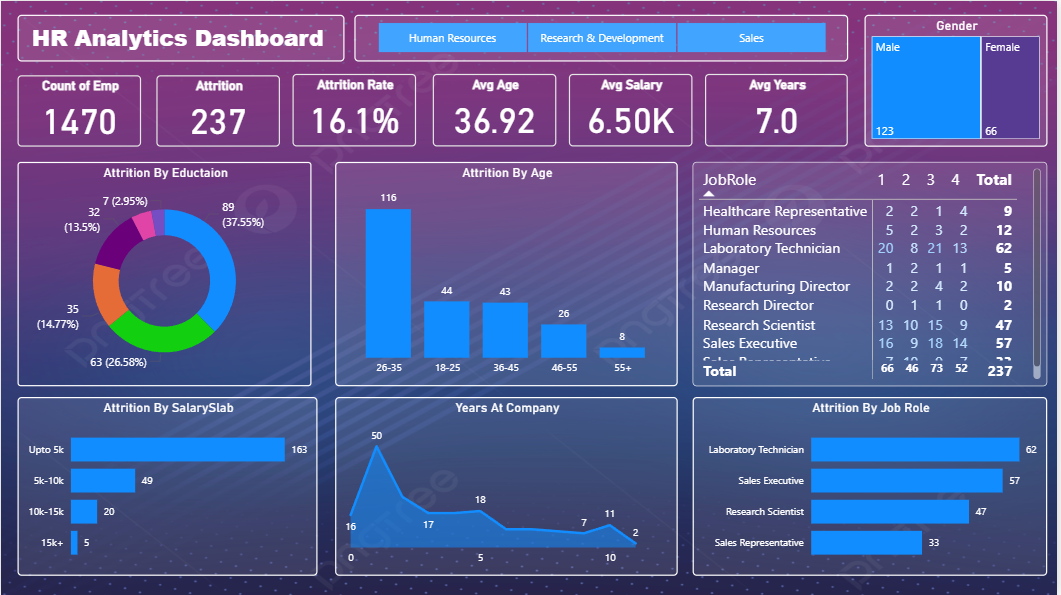

The dashboard page shown, as its layout file describes it:
{"tool":"powerbi","page":{"name":"Page 1","canvas":[1280,720],"ordinal":0},"visuals":[{"type":"card","title":"Attrition","fields":{"Values":["Sum(HR_Analytics.Attrition_Count)"]},"box":[188.3,90,150,86.7],"z":0},{"type":"card","title":"Count of Emp","fields":{"Values":["CountNonNull(HR_Analytics.EmpID)"]},"box":[20,90,150,86.7],"z":1000},{"type":"card","title":"Avg Age","fields":{"Values":["Avg(HR_Analytics.Age)"]},"box":[523.3,88.3,150,88.3],"z":2000},{"type":"card","title":"Attrition Rate ","fields":{"Values":["HR_Analytics.AttritionRate"]},"box":[353.3,88.3,150,88.3],"z":3000},{"type":"card","title":"Avg Years","fields":{"Values":["Avg(HR_Analytics.YearsAtCompany)"]},"box":[853.3,88.3,173.3,88.3],"z":4000},{"type":"card","title":"Avg Salary","fields":{"Values":["Avg(HR_Analytics.MonthlyIncome)"]},"box":[688.3,88.3,150,88.3],"z":5000},{"type":"donutChart","title":"Attrition By Eductaion","fields":{"Category":["HR_Analytics.EducationField"],"Y":["Sum(HR_Analytics.Attrition_Count)"]},"box":[20,195,356.7,271.7],"z":6000},{"type":"clusteredColumnChart","title":"Attrition By Age","fields":{"Y":["Sum(HR_Analytics.Attrition_Count)"],"Category":["HR_Analytics.AgeGroup"]},"box":[405,195,415,271.7],"z":7000},{"type":"pivotTable","fields":{"Rows":["HR_Analytics.JobRole"],"Values":["Sum(HR_Analytics.Attrition_Count)"],"Columns":["HR_Analytics.JobSatisfaction"]},"box":[838.3,195,430,271.7],"z":8000},{"type":"barChart","title":"Attrition By SalarySlab","fields":{"Category":["HR_Analytics.SalarySlab"],"Y":["Sum(HR_Analytics.Attrition_Count)"]},"box":[20,480,363.3,216.7],"z":9000},{"type":"barChart","title":"Attrition By Job Role","fields":{"Y":["Sum(HR_Analytics.Attrition_Count)"],"Category":["HR_Analytics.JobRole"]},"box":[838.3,480,430,216.7],"z":10000},{"type":"areaChart","title":"Years At Company","fields":{"Category":["HR_Analytics.YearsAtCompany"],"Y":["Sum(HR_Analytics.Attrition_Count)"]},"box":[405,480,415,216.7],"z":11000},{"type":"treemap","title":"Gender","fields":{"Group":["HR_Analytics.Gender"],"Values":["Sum(HR_Analytics.Attrition_Count)"]},"box":[1046.7,16.7,221.7,160],"z":11001},{"type":"slicer","fields":{"Values":["HR_Analytics.Department"]},"box":[428.3,16.7,598.3,56.7],"z":11002},{"type":"textbox","box":[20,16.7,396.7,56.7],"z":11003}]}

Visuals, with their boxes in screenshot pixels (x1, y1, x2, y2), scaled from the page's 1280x720 canvas onto the 1061x595 screenshot:
"Attrition" card: x1=156, y1=74, x2=280, y2=146
"Count of Emp" card: x1=17, y1=74, x2=141, y2=146
"Avg Age" card: x1=434, y1=73, x2=558, y2=146
"Attrition Rate " card: x1=293, y1=73, x2=417, y2=146
"Avg Years" card: x1=707, y1=73, x2=851, y2=146
"Avg Salary" card: x1=571, y1=73, x2=695, y2=146
"Attrition By Eductaion" donutChart: x1=17, y1=161, x2=312, y2=386
"Attrition By Age" clusteredColumnChart: x1=336, y1=161, x2=680, y2=386
pivotTable - HR_Analytics.JobRole x Sum(HR_Analytics.Attrition_Count): x1=695, y1=161, x2=1051, y2=386
"Attrition By SalarySlab" barChart: x1=17, y1=397, x2=318, y2=576
"Attrition By Job Role" barChart: x1=695, y1=397, x2=1051, y2=576
"Years At Company" areaChart: x1=336, y1=397, x2=680, y2=576
"Gender" treemap: x1=868, y1=14, x2=1051, y2=146
slicer - HR_Analytics.Department: x1=355, y1=14, x2=851, y2=61
textbox: x1=17, y1=14, x2=345, y2=61
